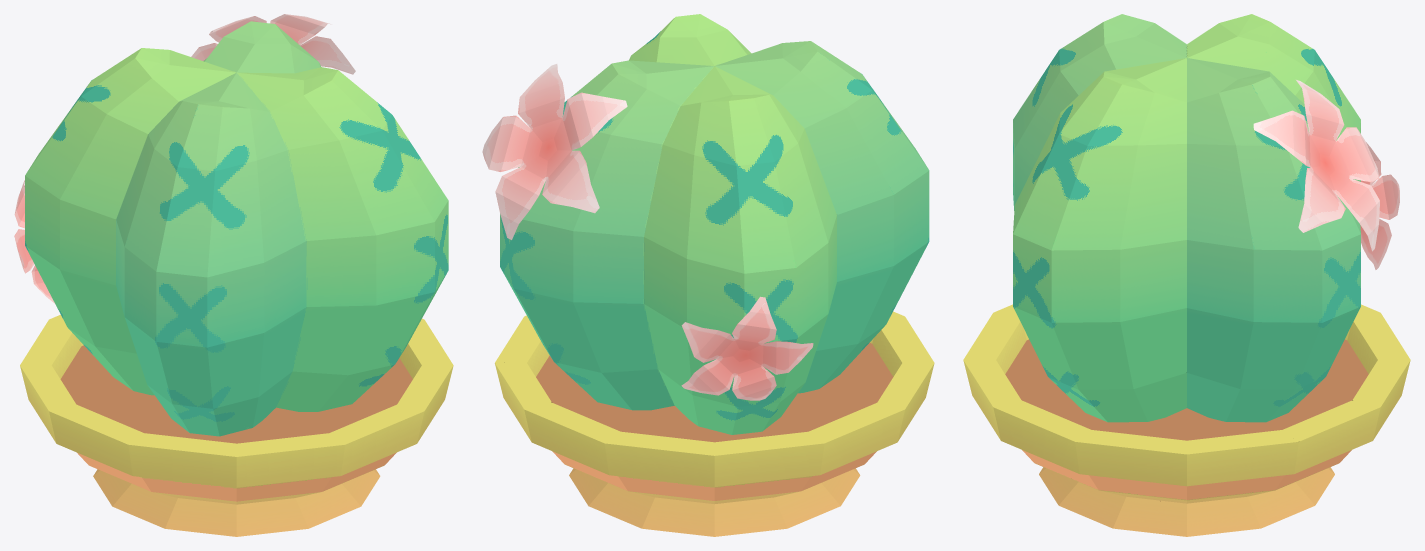
The model's file is Cactus.glb.
3 views of the same model, side by side, from view 1: azimuth 30°, elevation 25°; view 2: azimuth 150°, elevation 25°; view 3: azimuth 270°, elevation 25° (orthographic). The views are drawn at different scales.
Parts seen in each view (by area): view 1: Star, Circle, Circle.001, Plane.002, Plane.008; view 2: Star, Circle, Plane.002, Circle.001, Plane.008; view 3: Star, Circle, Plane.002, Circle.001, Plane.008.
Part boxes in pixels (box(x1,y1,x2,y2)): Star: box(25, 21, 448, 436); Circle: box(20, 314, 453, 536); Circle.001: box(60, 345, 412, 443); Plane.002: box(191, 14, 355, 74); Plane.008: box(14, 180, 54, 303); Star: box(500, 14, 929, 434); Circle: box(495, 311, 934, 536); Plane.002: box(482, 64, 627, 239); Circle.001: box(536, 342, 893, 442); Plane.008: box(681, 296, 813, 400); Star: box(1013, 14, 1360, 422); Circle: box(963, 304, 1410, 536); Plane.002: box(1253, 80, 1379, 251); Circle.001: box(1005, 339, 1368, 440); Plane.008: box(1360, 142, 1399, 269).
Bounding box in the file's own units: 24.14 × 25.31 × 24.14.
Materials: 1 (1 with a texture image).
